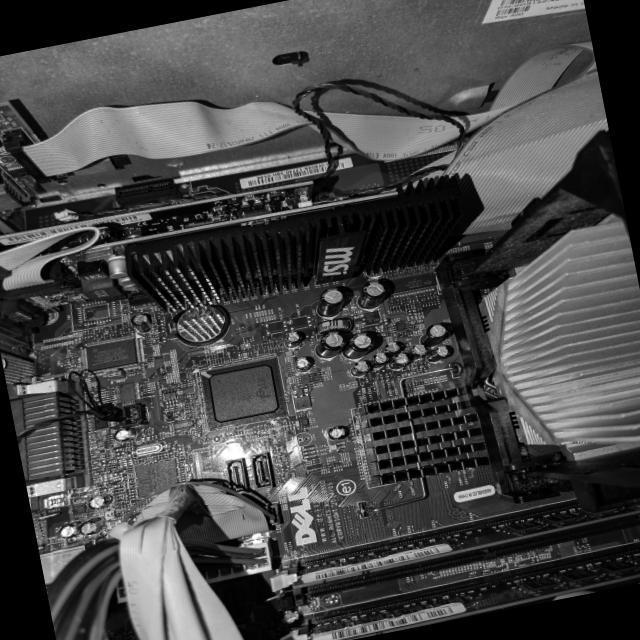CPU_Fan: (468, 219, 640, 475)
Mainboard: (0, 99, 640, 640)
RAM: (290, 493, 640, 592), (303, 542, 640, 640)
